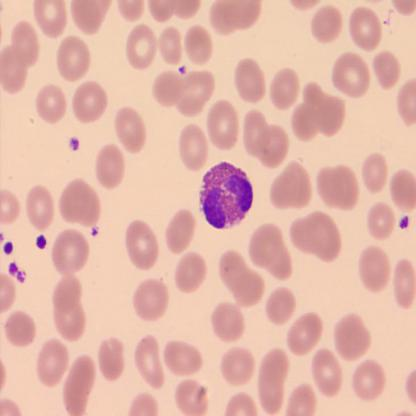Eosinophil: (200, 161, 254, 228)
